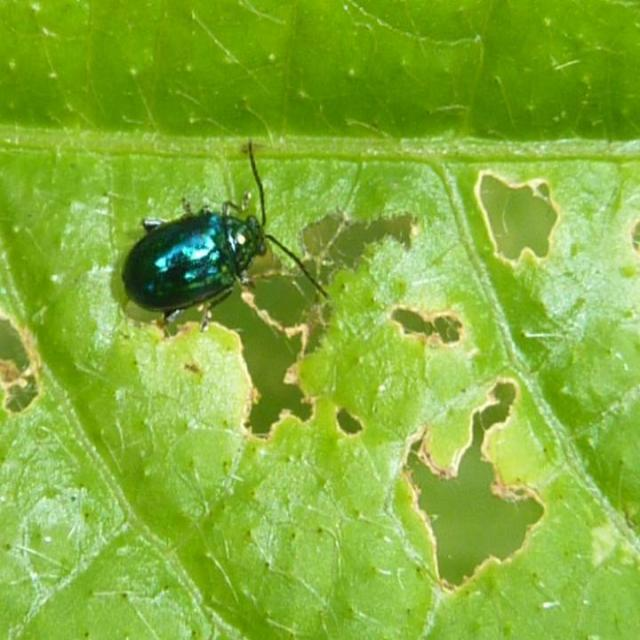flea_beetle: (115, 138, 337, 336)
